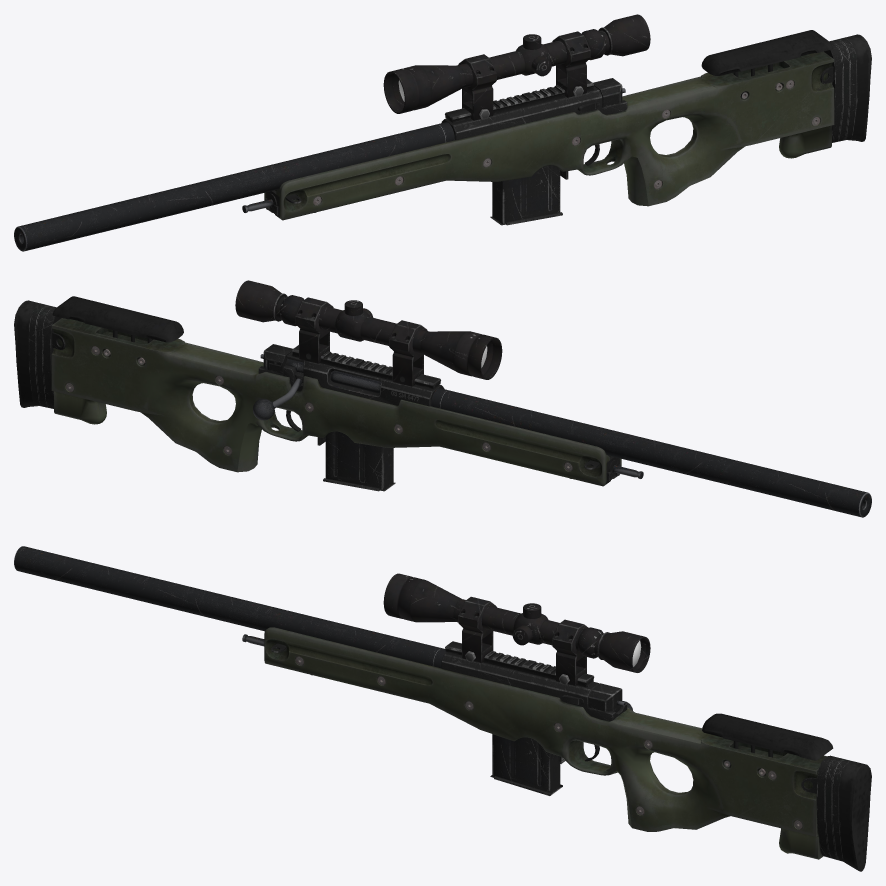
The model's file is awm.glb.
3 renders of one model, top to bottom at view 1: azimuth 30°, elevation 25°; view 2: azimuth 150°, elevation 25°; view 3: azimuth 330°, elevation 25°, orthographic.
Parts seen in each view (by area): view 1: awm; view 2: awm; view 3: awm.
Boxes of the visible parts, left/top/right/bottom form: awm: left=14, top=14, right=871, bottom=251; awm: left=14, top=280, right=871, bottom=517; awm: left=14, top=546, right=871, bottom=871.
Size of the model in its own units: 1.2 by 0.2571 by 0.1002.
Materials: 3 (2 with a texture image).
